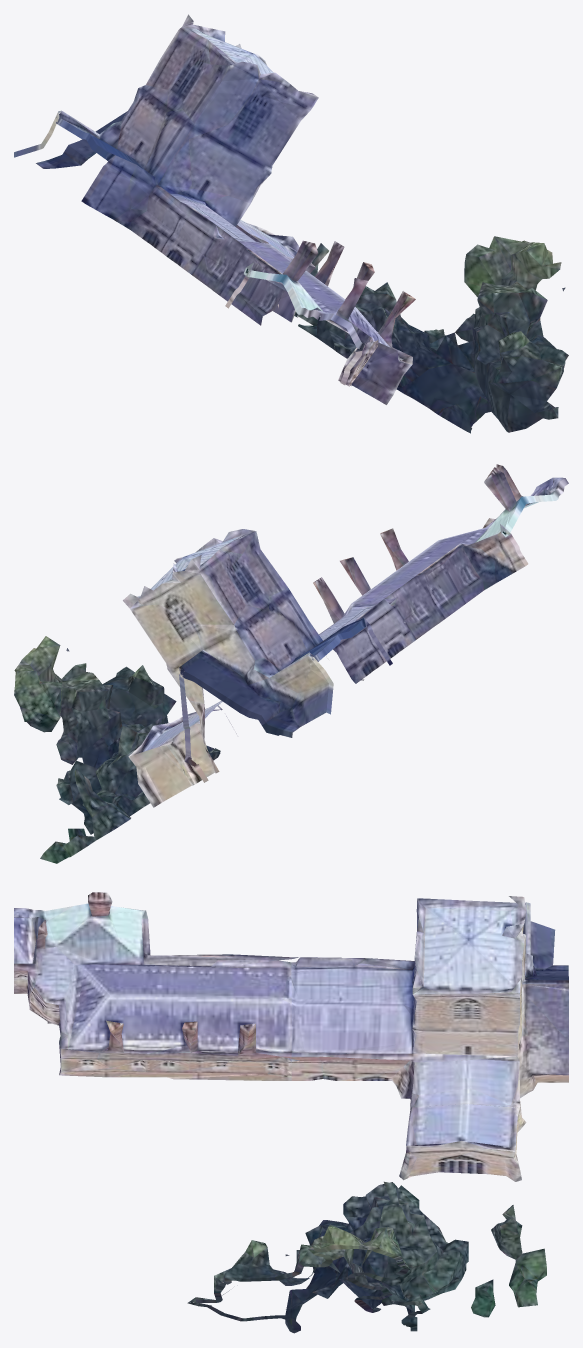
The model's file is AJVsH2yBVrKotBs4qdV0fACwHpMdcy2OuGZLJt5GTB6fvz6vsJd-9vNnjm2dRpWFVQc2w-1D6Ugwi8enjGn-12ghdSOdPmLGbsS_fnpL-Euvo-1fYJyIJmor-IDJSiRWxrJySPKlyOGwZ97TgRV8Zv1d0HKbSGE8EW6bX6f07lWR_4HRJ7ZnIzBFJoEkpyCqSg.glb.
The picture shows the model from 3 angles, top to bottom: view 1: azimuth 30°, elevation 25°; view 2: azimuth 150°, elevation 25°; view 3: azimuth 270°, elevation 25°; orthographic projection. The views are drawn at different scales.
Bounding box in the file's own units: 40.27 × 33.76 × 46.98.
1 material, 1 textured.
